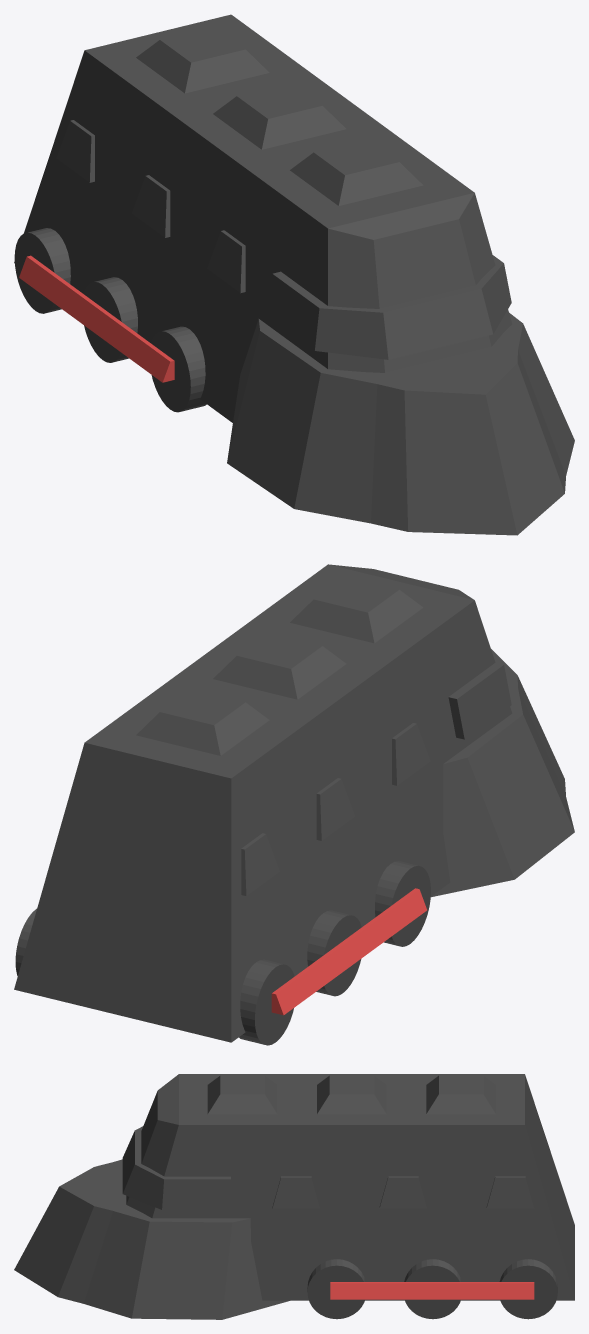
Rendered from TrainHead.glb.
The picture shows the model from 3 angles, top to bottom: view 1: azimuth 30°, elevation 25°; view 2: azimuth 150°, elevation 25°; view 3: azimuth 270°, elevation 25°; orthographic projection. The views are drawn at different scales.
Parts seen in each view (by area): view 1: cabine, roda_direita; view 2: cabine, roda_direita; view 3: cabine, roda_esquerda.
Boxes of the visible parts, left/top/right/bottom form: cabine: left=14, top=14, right=574, bottom=535; roda_direita: left=19, top=255, right=174, bottom=382; cabine: left=14, top=564, right=574, bottom=1045; roda_direita: left=271, top=888, right=426, bottom=1015; cabine: left=14, top=1074, right=574, bottom=1319; roda_esquerda: left=330, top=1282, right=534, bottom=1299.
Size of the model in its own units: 10.59 by 9.54 by 25.15.
